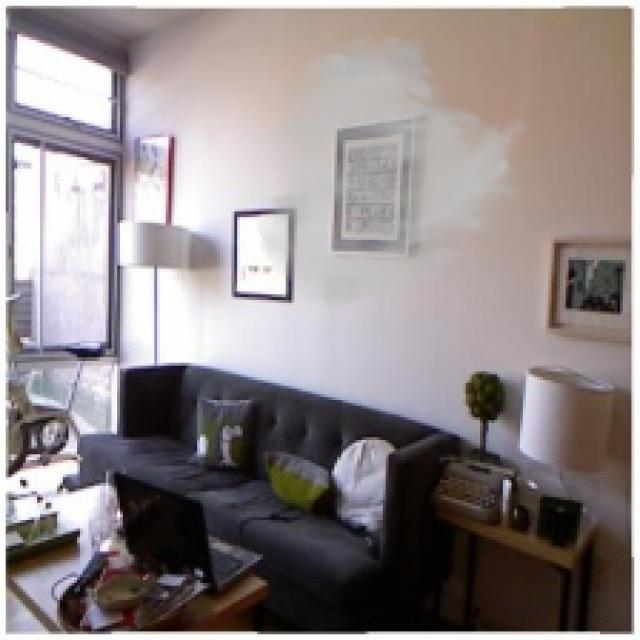Smoke: (254, 31, 529, 312)
